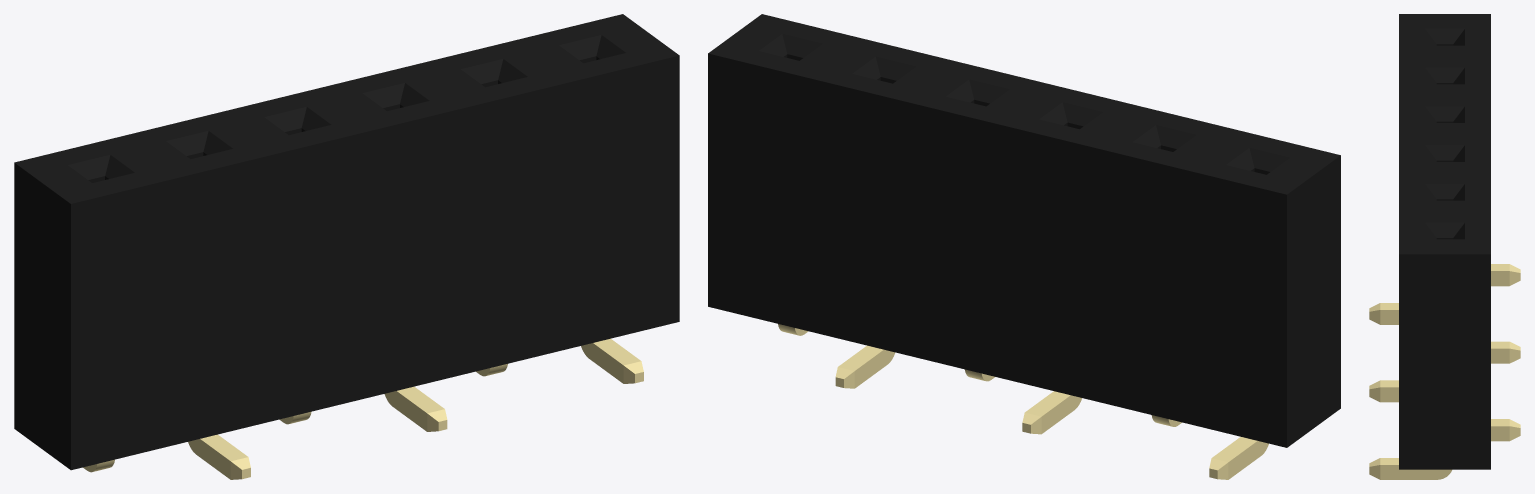
Rendered from sfe-1x06_smd_pin1rightdown.glb.
3 views of the same model, side by side, from view 1: azimuth 30°, elevation 25°; view 2: azimuth 150°, elevation 25°; view 3: azimuth 270°, elevation 25° (orthographic). The views are drawn at different scales.
Parts seen in each view (by area): view 1: 0_0_0_0, 0.9166666666666666_0.75_0.4166666666666667_0.9; view 2: 0_0_0_0, 0.9166666666666666_0.75_0.4166666666666667_0.9; view 3: 0_0_0_0, 0.9166666666666666_0.75_0.4166666666666667_0.9.
Part boxes in pixels (x1,y1,x2,y2): 0_0_0_0: [14, 14, 679, 470]; 0.9166666666666666_0.75_0.4166666666666667_0.9: [83, 338, 643, 479]; 0_0_0_0: [708, 14, 1340, 447]; 0.9166666666666666_0.75_0.4166666666666667_0.9: [778, 324, 1268, 479]; 0_0_0_0: [1399, 14, 1490, 469]; 0.9166666666666666_0.75_0.4166666666666667_0.9: [1369, 264, 1520, 479].
Size of the model in its own units: 1.57 by 0.75 by 0.42.
